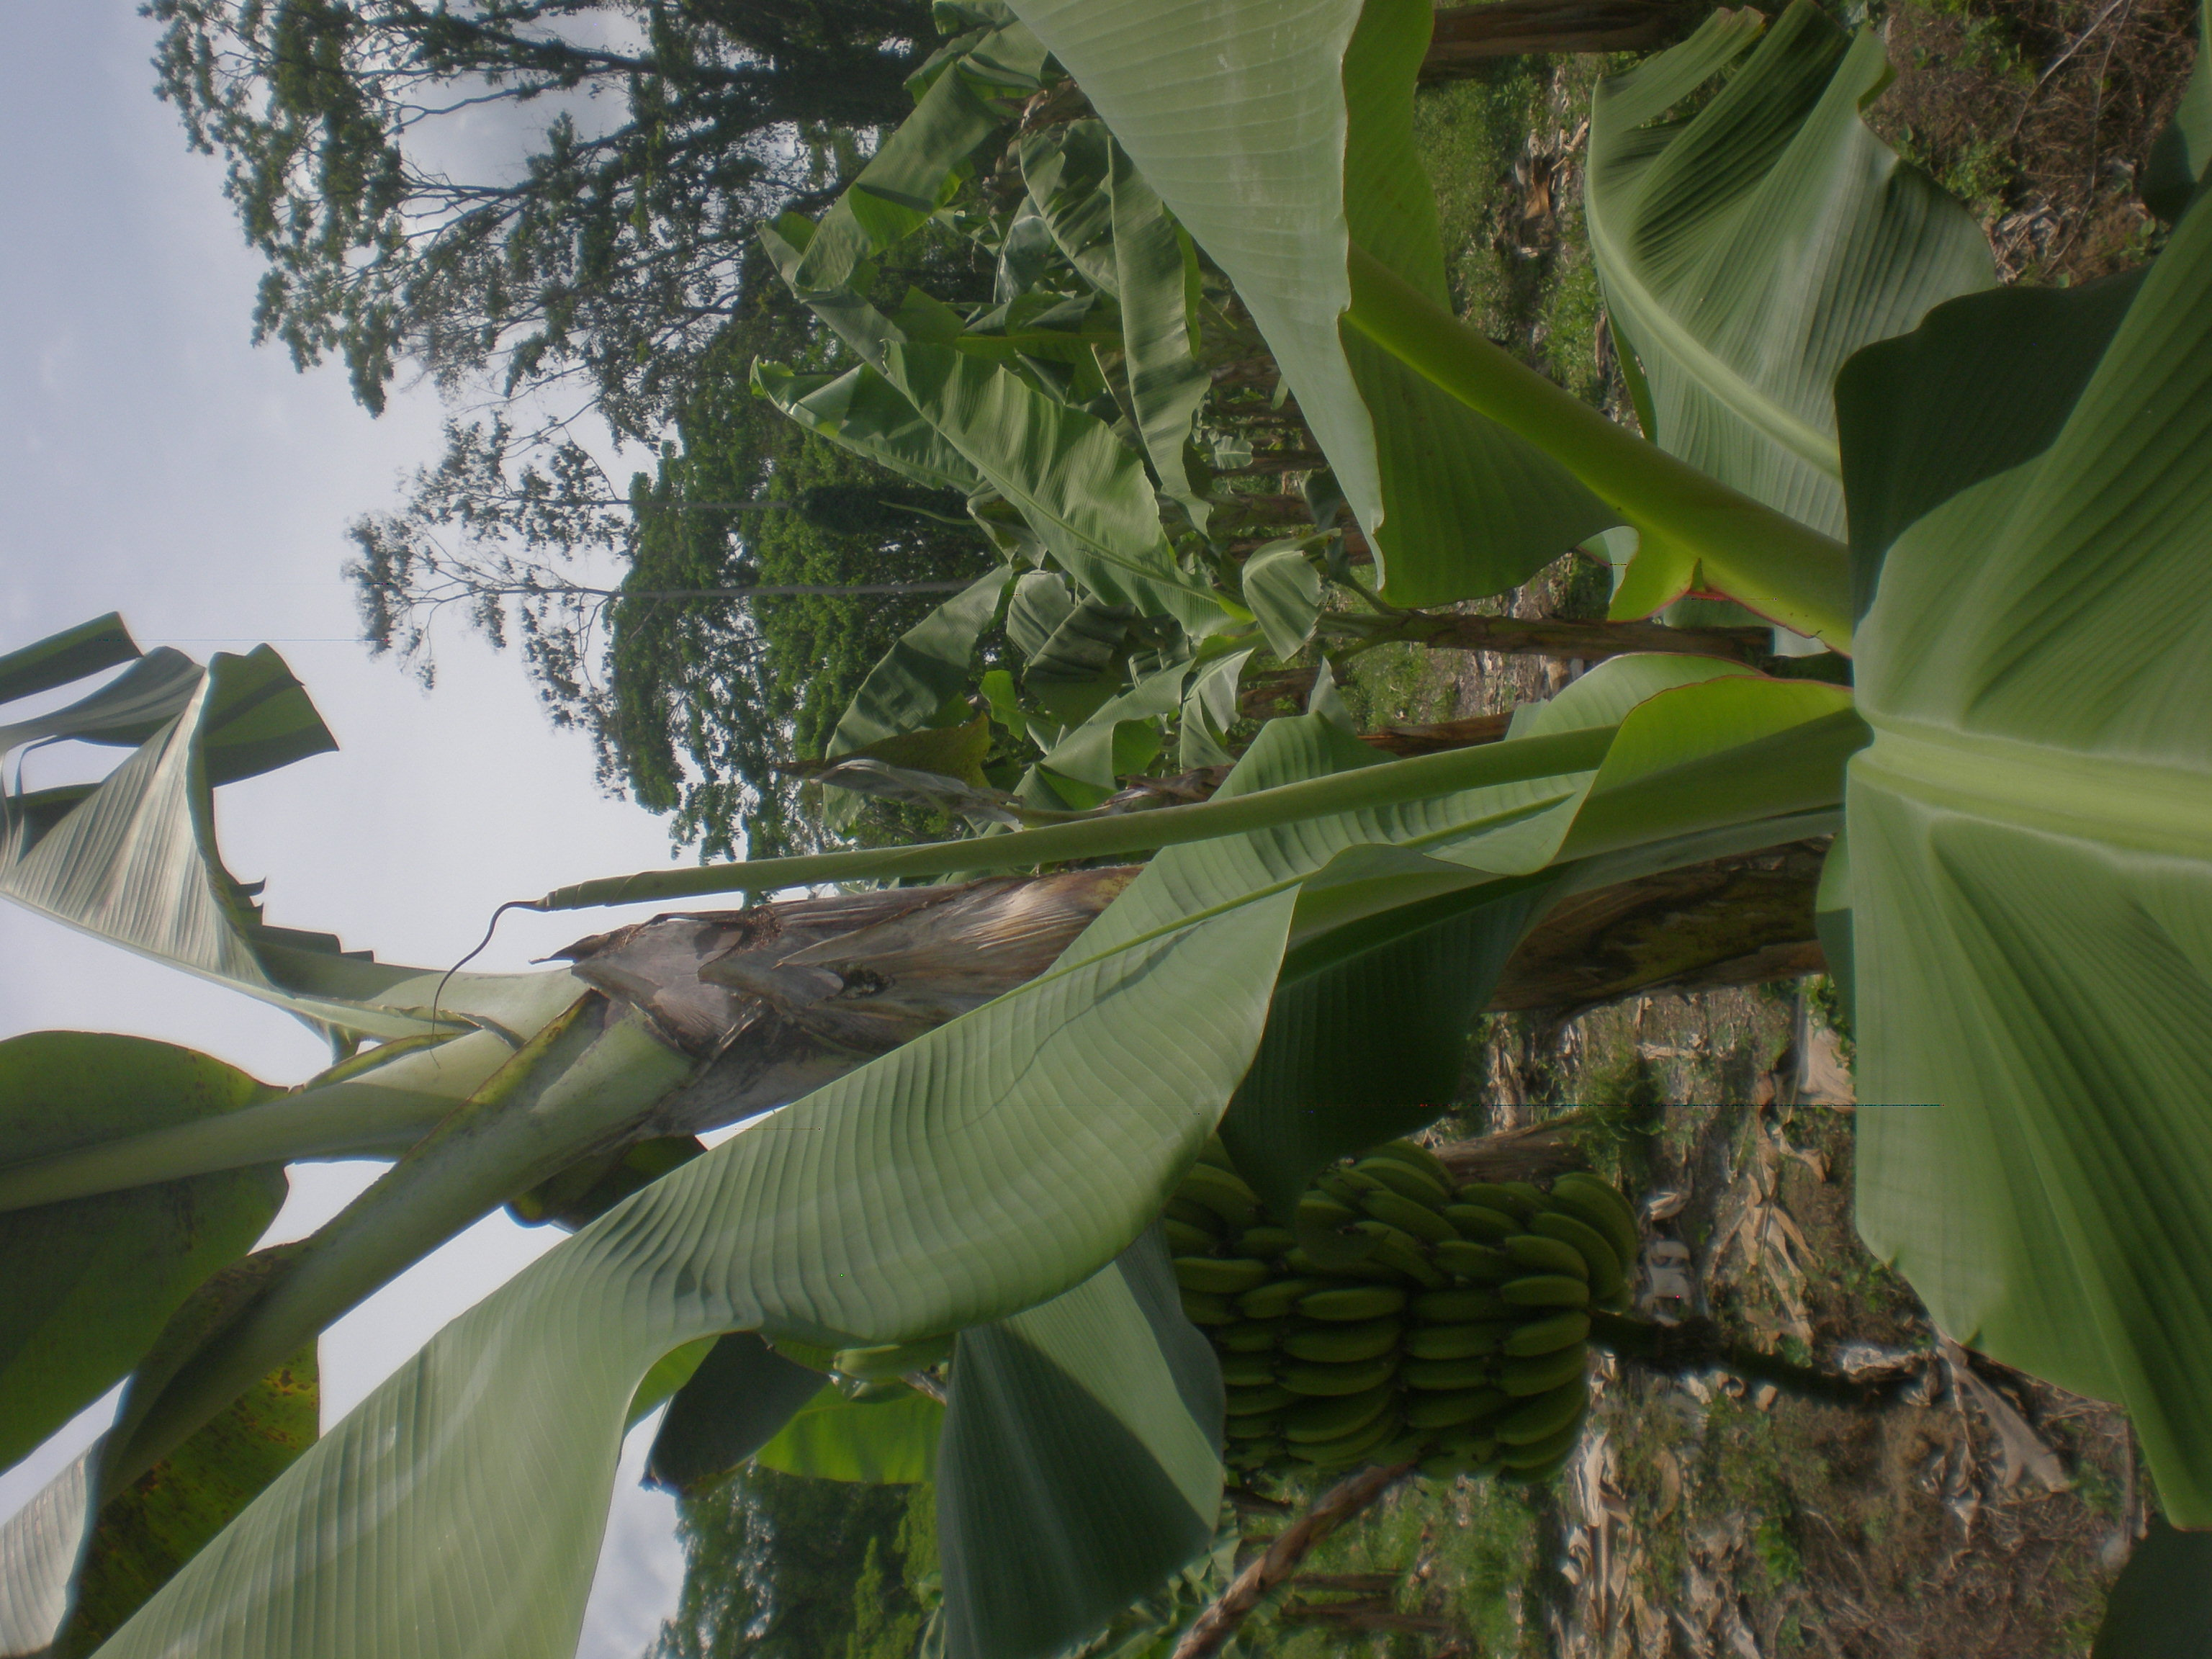candleleafs: (451, 727, 1590, 971)
